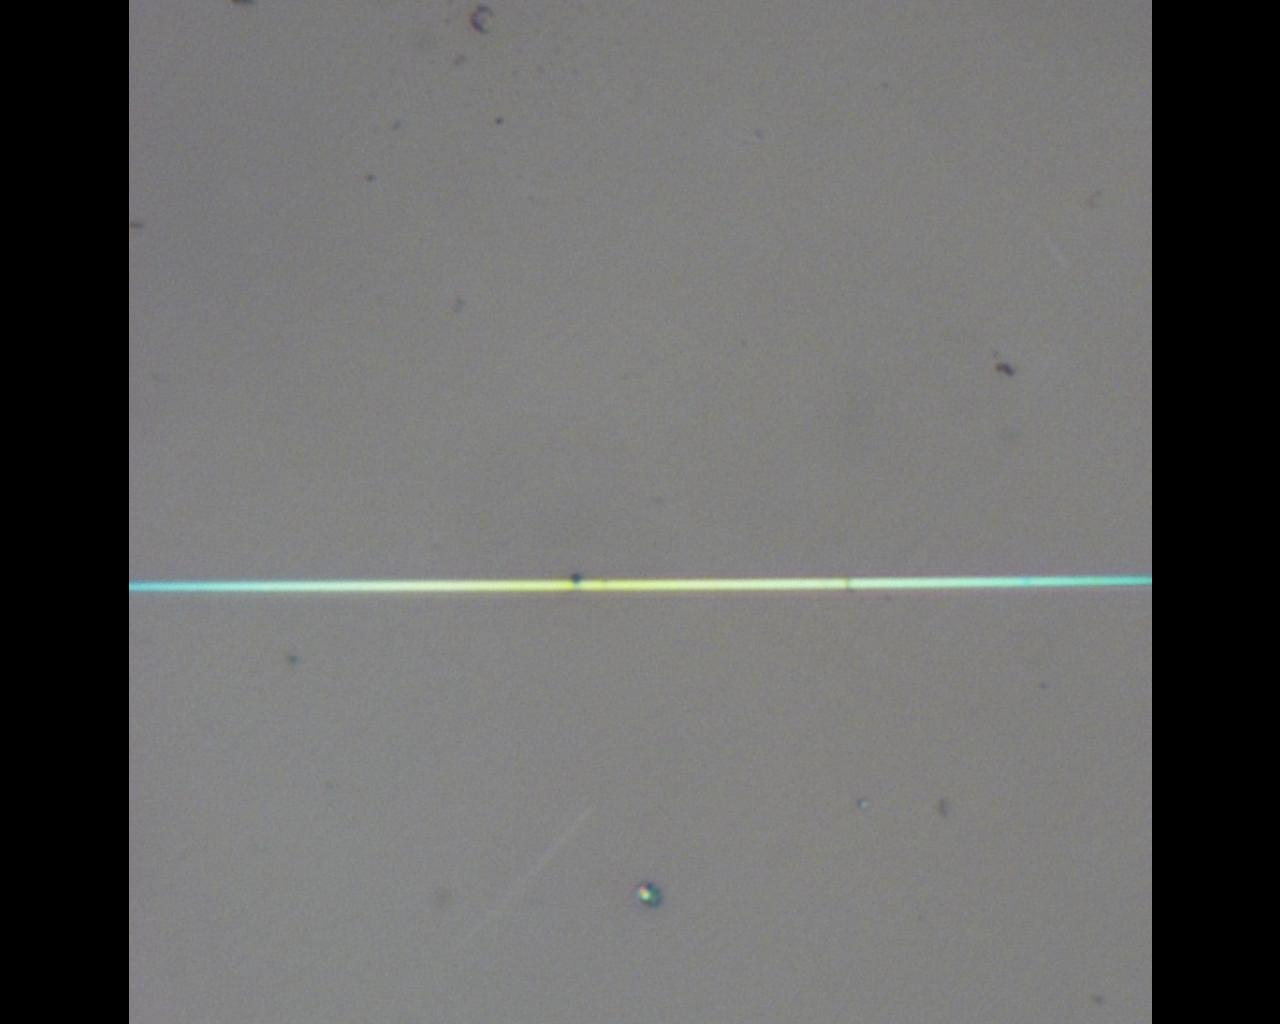fiber: (588, 805, 1225, 953), (0, 654, 588, 791), (1073, 210, 1280, 512)
